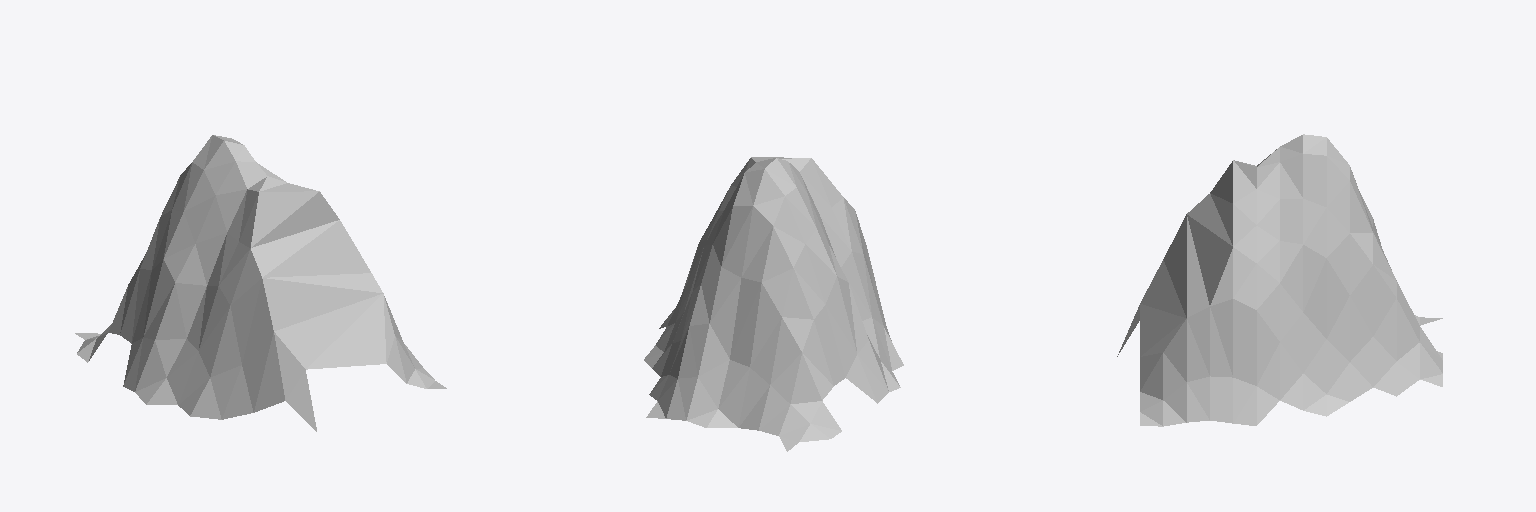
File: tree_29.obj
The picture shows the model from 3 angles: view 1: azimuth 30°, elevation 25°; view 2: azimuth 150°, elevation 25°; view 3: azimuth 270°, elevation 25°; orthographic projection.
Visible parts, largest first — view 1: tree_29_minus_dtm; view 2: tree_29_minus_dtm; view 3: tree_29_minus_dtm.
Boxes of the visible parts, box(x1,y1,x2,y2) form: tree_29_minus_dtm: box(75, 135, 446, 431); tree_29_minus_dtm: box(644, 157, 903, 451); tree_29_minus_dtm: box(1117, 134, 1442, 426).
Bounding box in the file's own units: 12 × 10.58 × 14.